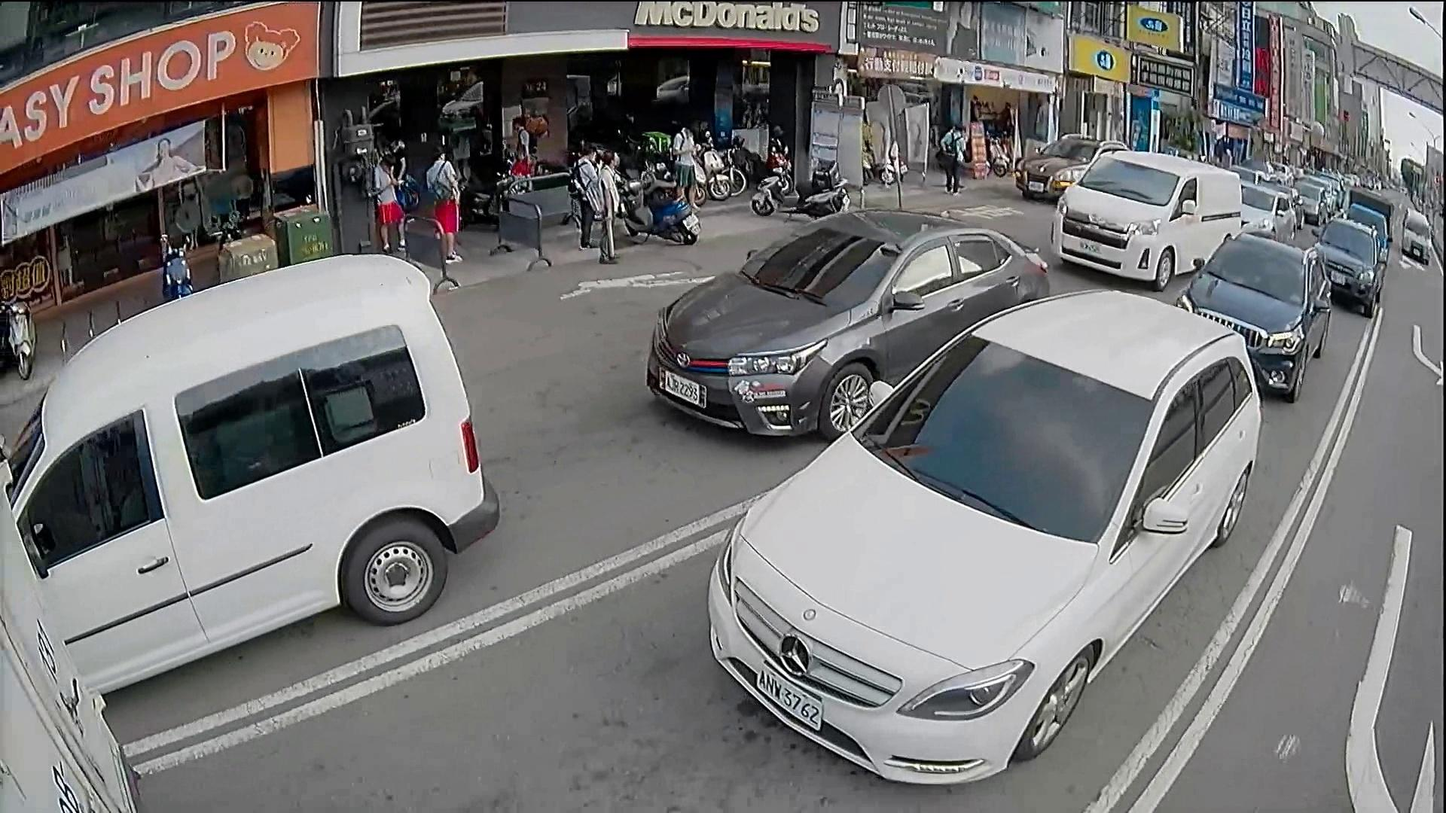person: (419, 137, 466, 263), (580, 148, 624, 262), (364, 148, 405, 253), (671, 119, 703, 208), (937, 123, 959, 194), (512, 111, 536, 175)
